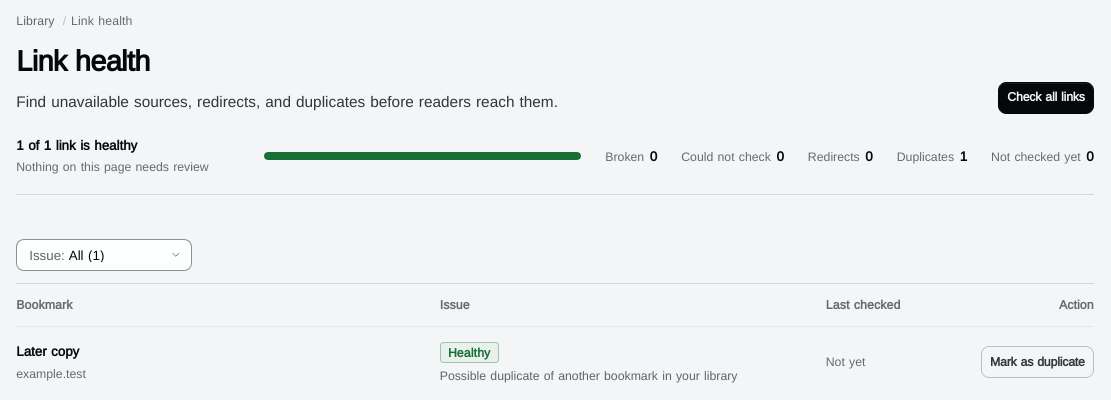
Scenario: LibraryHealth duplicate review and cannot-probe display › reloads on already-exists instead of creating another relation
What coordinates should you click on to do the following:
click the button "Mark as duplicate"
I would click on:
 (1037, 362)
Its box is [981,346,1094,378].
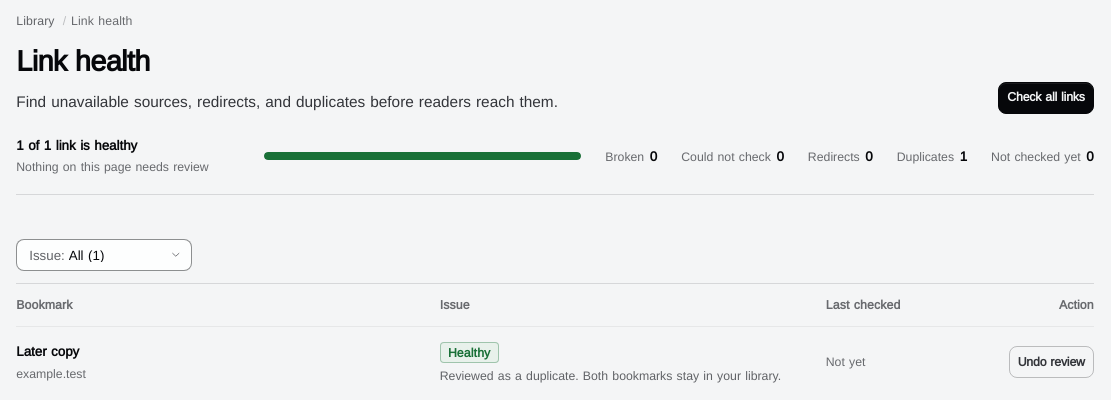
Now the text "Reviewed as a duplicate" is shown, box [440,368,781,383]
